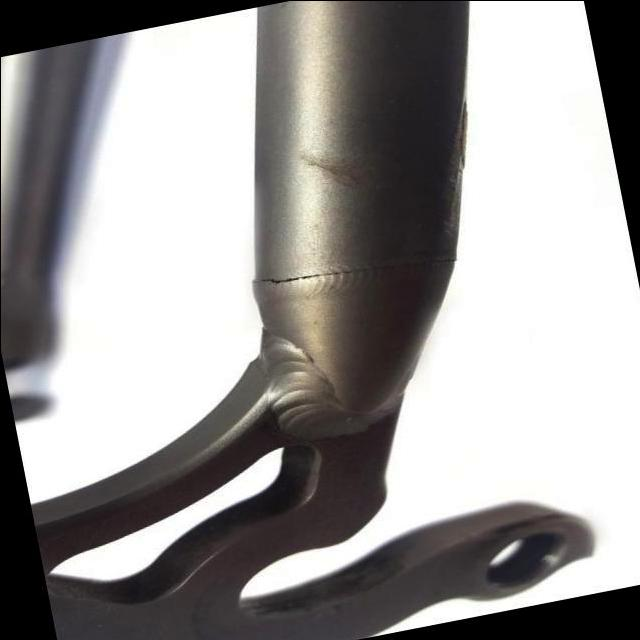defect: (248, 257, 460, 284)
